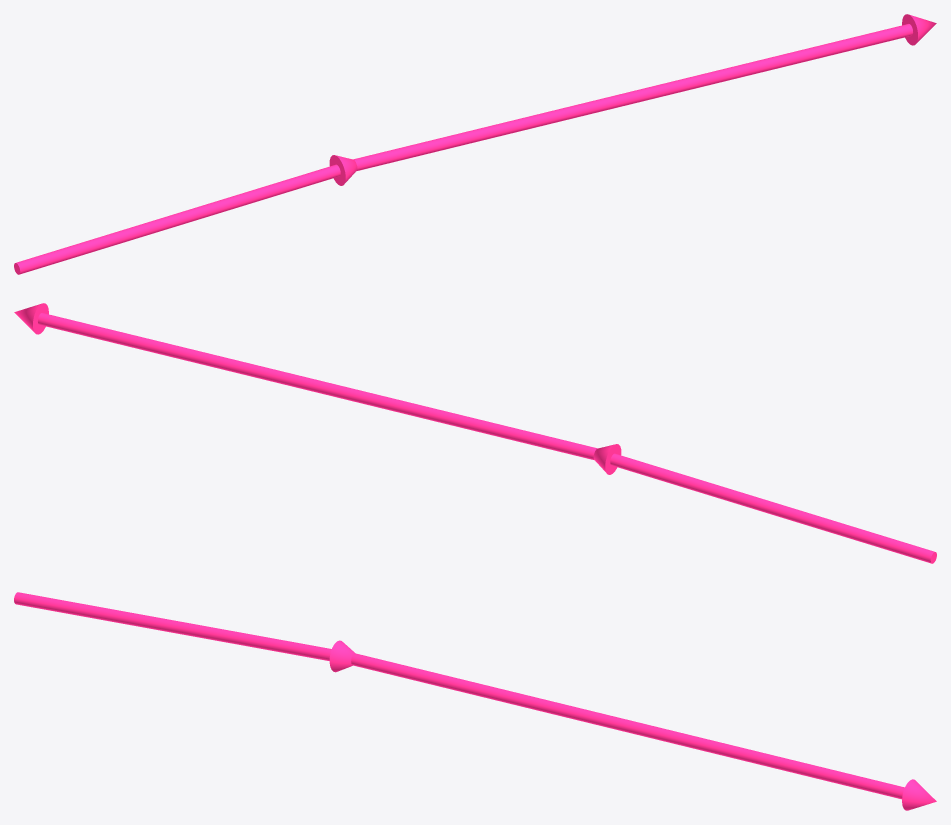
Rendered from dynamic_balancing_machine_flow.glb.
3 views of the same model, one above another, from view 1: azimuth 30°, elevation 25°; view 2: azimuth 150°, elevation 25°; view 3: azimuth 330°, elevation 25° (orthographic).
Visible parts, largest first — view 1: drive; view 2: drive; view 3: drive.
Boxes of the visible parts, x1,y1,x2,y2 form: drive: [14, 14, 936, 274]; drive: [14, 303, 936, 563]; drive: [14, 592, 936, 810].
Bounding box in the file's own units: 1.37 × 0.0588 × 0.0416.
